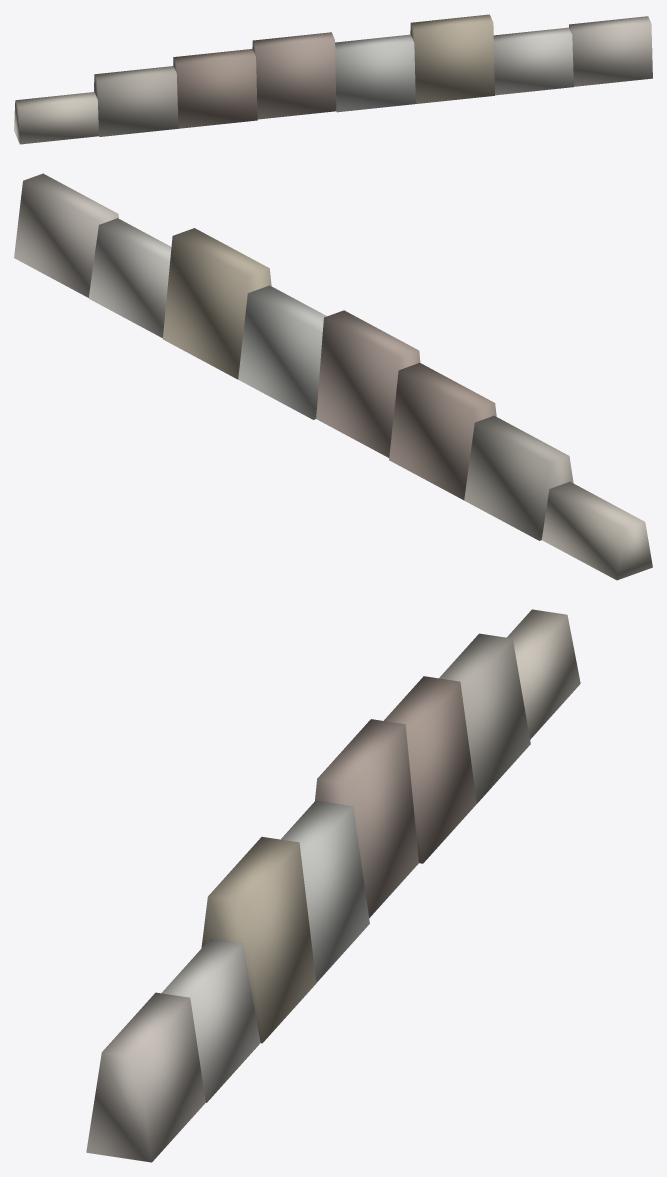
The model's file is farm_-56_-41_collision.glb.
The picture shows the model from 3 angles, top to bottom: view 1: azimuth 30°, elevation 25°; view 2: azimuth 150°, elevation 25°; view 3: azimuth 270°, elevation 25°; orthographic projection. The views are drawn at different scales.
Visible parts, largest first — view 1: geometry_0; view 2: geometry_0; view 3: geometry_0.
Boxes of the visible parts, bbox=[...] form: geometry_0: bbox=[14, 14, 652, 144]; geometry_0: bbox=[14, 173, 652, 580]; geometry_0: bbox=[86, 609, 580, 1162].
Bounding box in the file's own units: 11.68 × 1.71 × 4.67.
